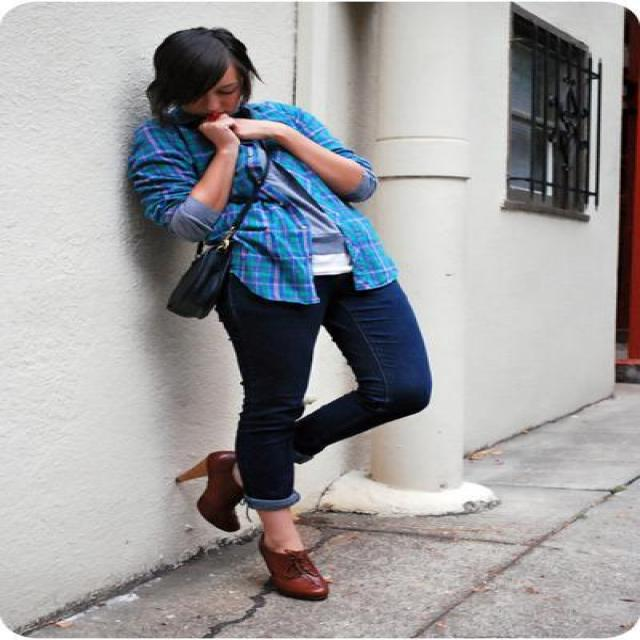bag: (166, 232, 238, 318)
jacket: (330, 147, 370, 170)
pants: (220, 271, 430, 524)
shirt: (123, 90, 395, 303), (288, 171, 360, 274)
shoe: (176, 451, 325, 601)
